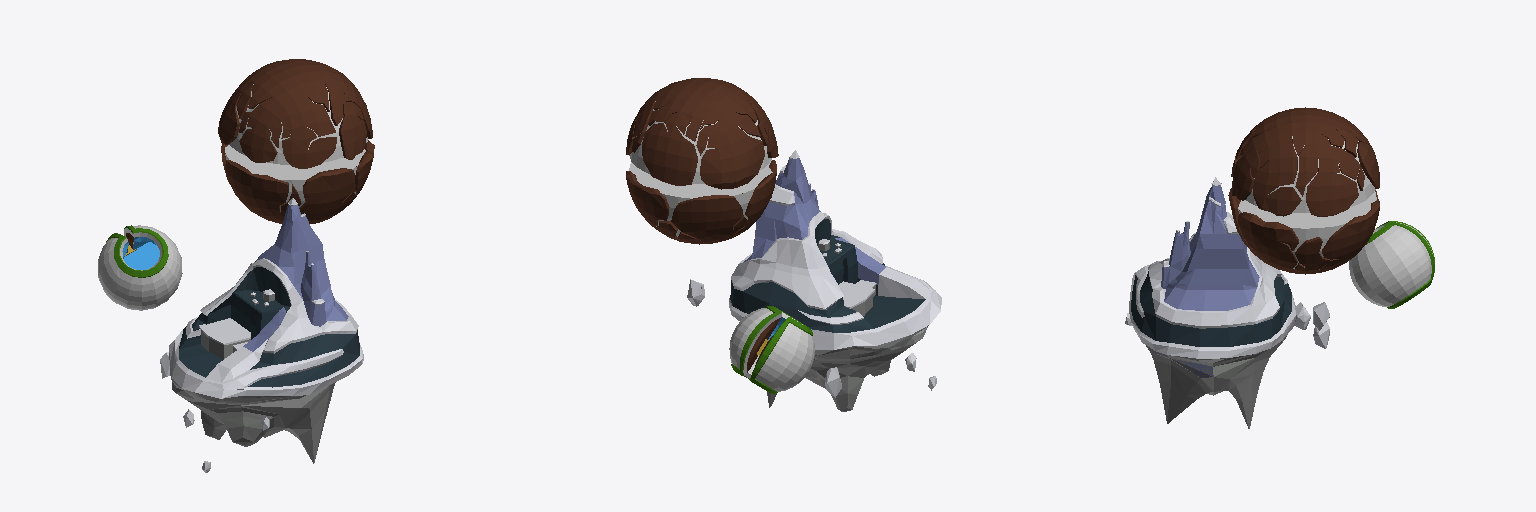
The picture shows the model from 3 angles: view 1: azimuth 30°, elevation 25°; view 2: azimuth 150°, elevation 25°; view 3: azimuth 270°, elevation 25°; orthographic projection.
Parts seen in each view (by area): view 1: m6, m1, m3, m9, m4, m2, m11, m8, m21, m12, m17, m7; view 2: m6, m1, m3, m4, m2, m11, m9, m8, m12, m15, m7, m21; view 3: m6, m2, m1, m4, m9, m11, m3, m8, m15, m7, m12, m5.
Boxes of the visible parts, <box> form: m6: <box>218,59,372,168</box>; m1: <box>169,198,363,398</box>; m3: <box>179,267,359,387</box>; m9: <box>169,353,335,463</box>; m4: <box>221,140,374,223</box>; m2: <box>243,204,348,351</box>; m11: <box>98,225,182,310</box>; m8: <box>225,141,367,179</box>; m21: <box>199,318,250,349</box>; m12: <box>106,225,168,277</box>; m17: <box>122,237,159,269</box>; m7: <box>229,84,367,164</box>; m6: <box>626,78,778,189</box>; m1: <box>729,150,941,349</box>; m3: <box>730,219,925,332</box>; m4: <box>626,160,776,244</box>; m2: <box>744,158,885,284</box>; m11: <box>729,308,814,391</box>; m9: <box>767,325,928,411</box>; m8: <box>629,160,772,198</box>; m12: <box>731,306,812,393</box>; m15: <box>687,279,936,397</box>; m7: <box>629,101,771,183</box>; m21: <box>839,280,876,308</box>; m6: <box>1231,107,1379,216</box>; m2: <box>1161,186,1259,310</box>; m1: <box>1129,177,1296,358</box>; m4: <box>1228,188,1379,274</box>; m9: <box>1146,336,1286,428</box>; m11: <box>1349,222,1432,306</box>; m3: <box>1131,271,1291,346</box>; m8: <box>1238,191,1376,228</box>; m15: <box>1125,302,1329,348</box>; m7: <box>1246,136,1375,212</box>; m12: <box>1366,221,1434,308</box>; m5: <box>1238,200,1376,269</box>.
Size of the model in its own units: 41.51 by 56.13 by 47.28.
Materials: 22 (8 with a texture image).